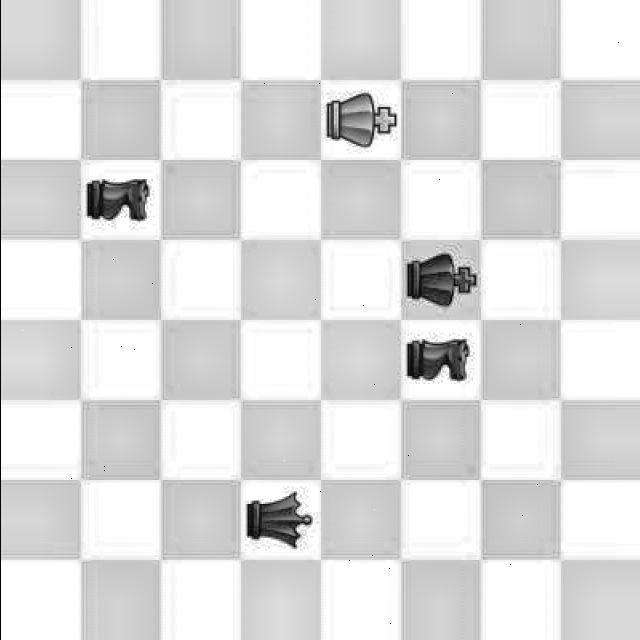Black Knight: (405, 326, 475, 396), (83, 171, 157, 232)
black king: (400, 243, 482, 320)
black queen: (242, 478, 318, 548)
white king: (326, 86, 392, 148)
